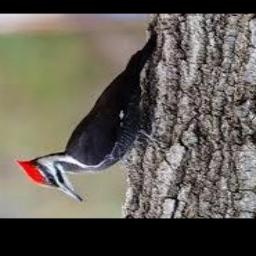Woodpecker: (15, 25, 163, 203)
